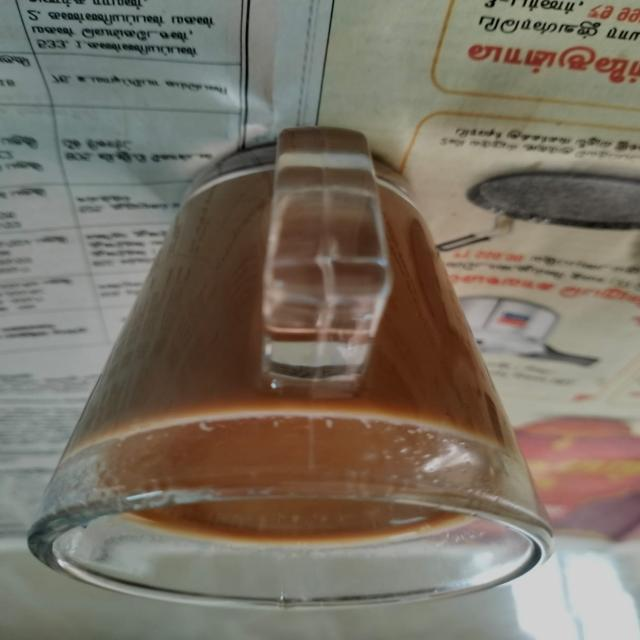glass-VX4N: (29, 126, 555, 612)
